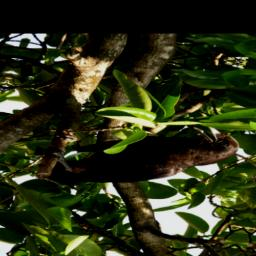Crow: (31, 105, 251, 206)
